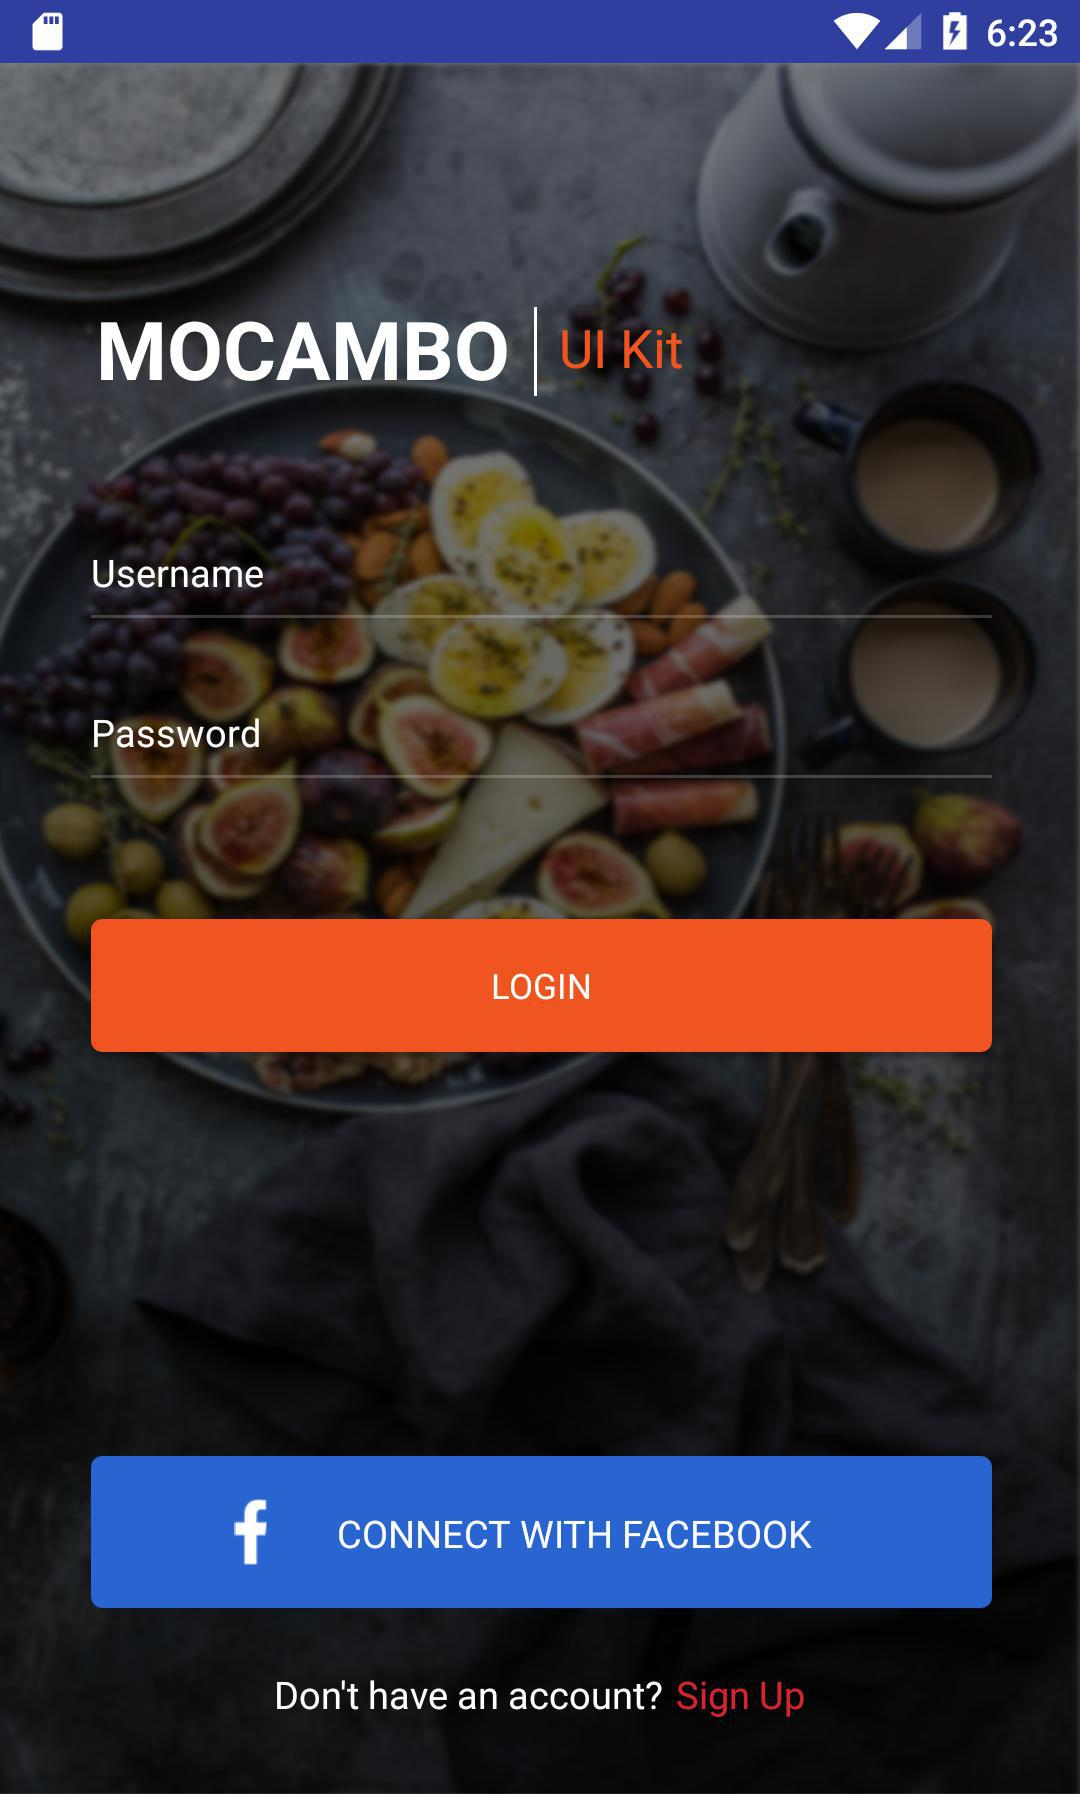BackgroundImage: (1, 64, 1079, 1794)
EditText: (90, 718, 993, 780), (91, 560, 993, 620)
Text: (101, 322, 509, 383), (277, 1679, 805, 1718), (94, 718, 263, 750), (561, 329, 683, 372), (94, 560, 265, 589)
TextButton: (91, 1456, 993, 1609), (91, 918, 993, 1053)
UpperTaskBar: (1, 1, 1080, 64)
